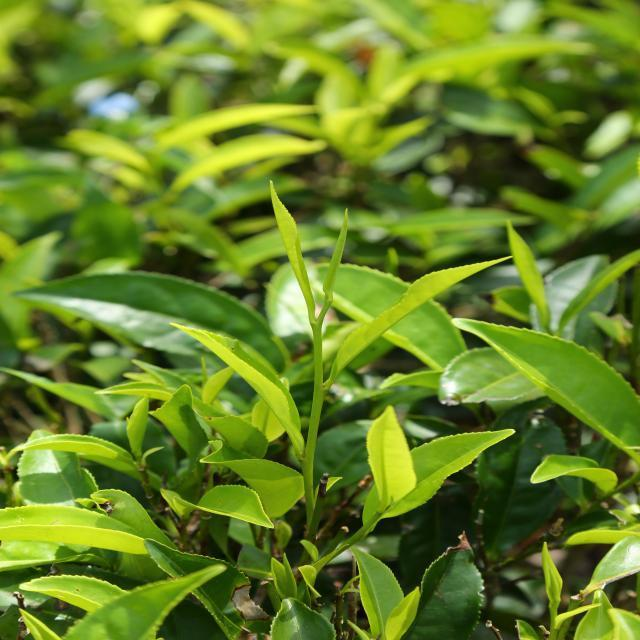Stem: (313, 323, 322, 334)
